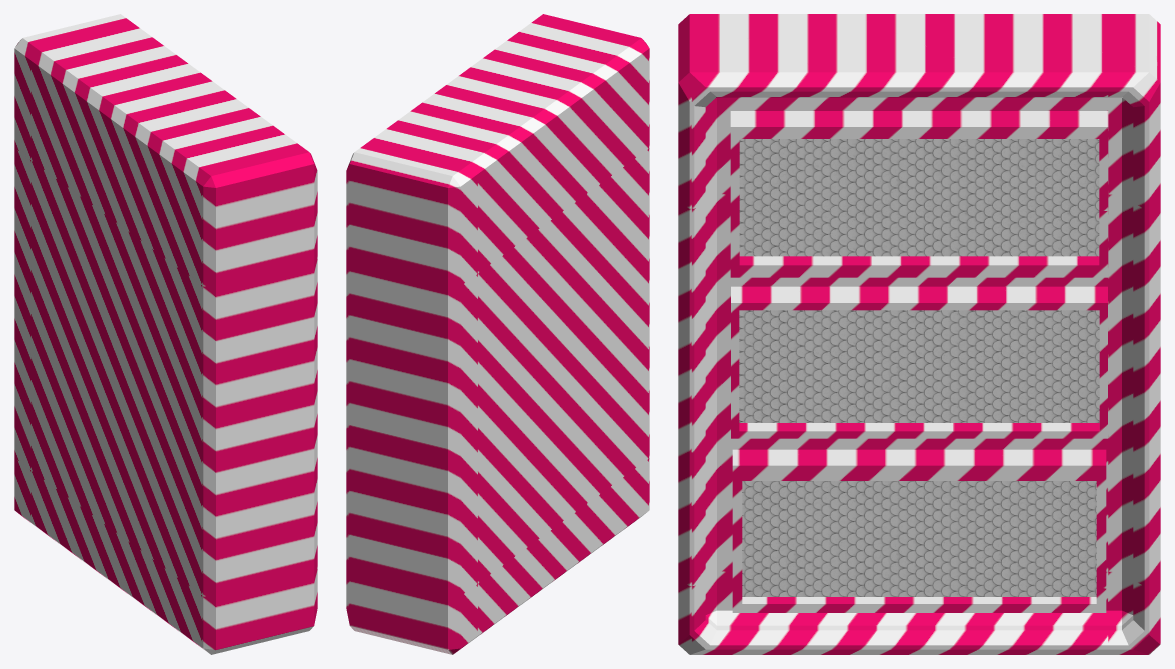
Rendered from ChristmasMenu.fbx.
3 views of the same model, side by side, from view 1: azimuth 30°, elevation 25°; view 2: azimuth 150°, elevation 25°; view 3: azimuth 270°, elevation 25° (orthographic). The views are drawn at different scales.
Visible parts, largest first — view 1: Cube; view 2: Cube; view 3: Cube, Cube.001, Cube.003, Cube.002.
Boxes of the visible parts, <box> form: Cube: <box>14,14,317,654</box>; Cube: <box>346,14,649,654</box>; Cube: <box>678,14,1160,654</box>; Cube.001: <box>730,111,1108,277</box>; Cube.003: <box>732,449,1106,612</box>; Cube.002: <box>731,286,1107,438</box>.
Size of the model in its own units: 207 by 800 by 600.
